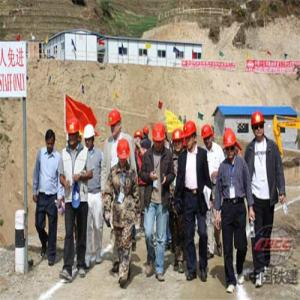none: (44, 129, 58, 154)
red: (223, 129, 239, 162), (252, 111, 268, 142), (152, 123, 167, 152), (184, 121, 199, 150), (109, 109, 123, 137), (117, 140, 131, 167), (67, 123, 81, 148), (201, 123, 214, 148), (173, 128, 184, 153), (136, 131, 144, 148), (143, 128, 150, 139)
white: (84, 126, 96, 150)
